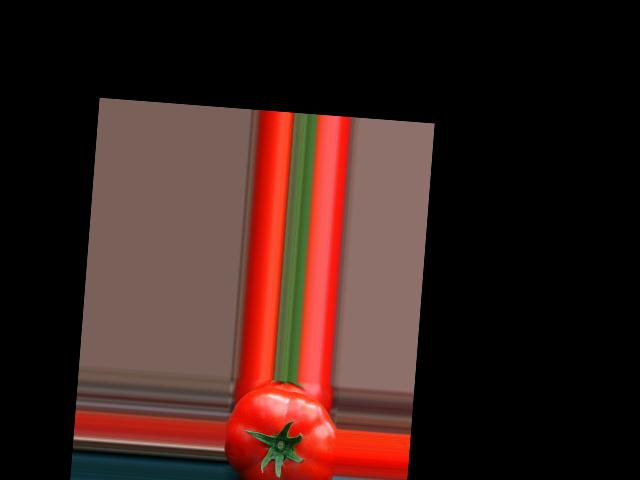tomato: (219, 384, 339, 480)
